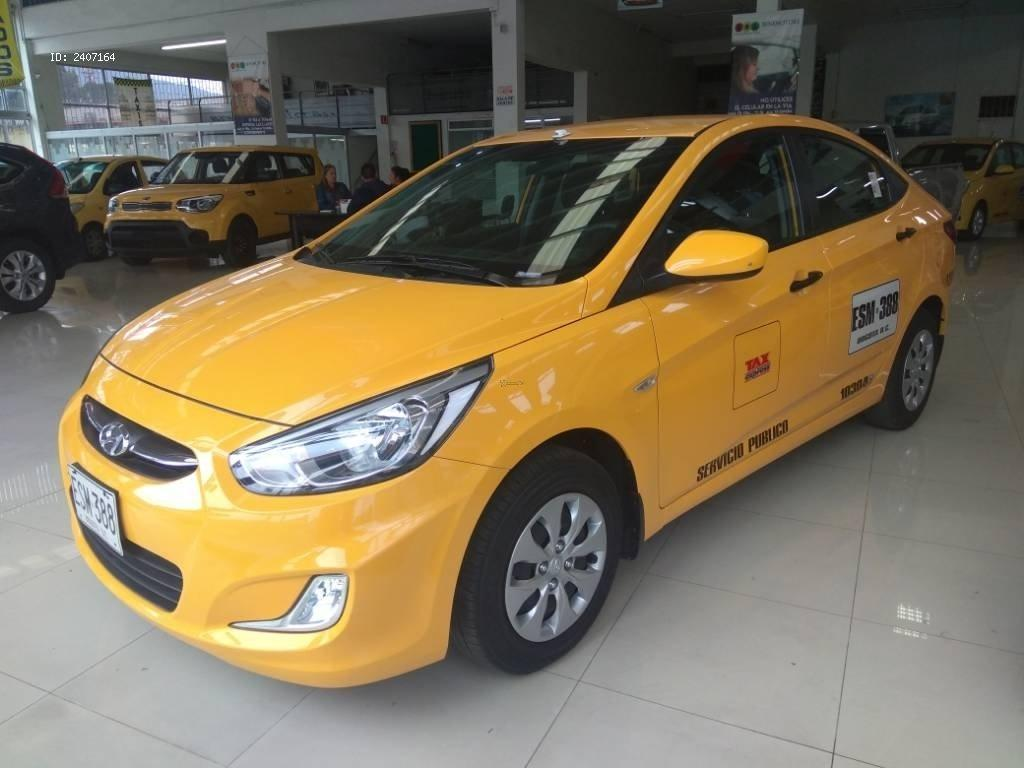taxi: (58, 82, 997, 697)
